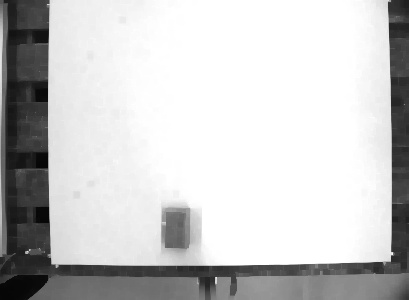b1: (162, 203, 194, 250)
